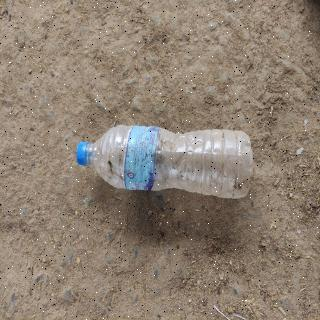Plastic-bottle: (76, 123, 256, 202)
